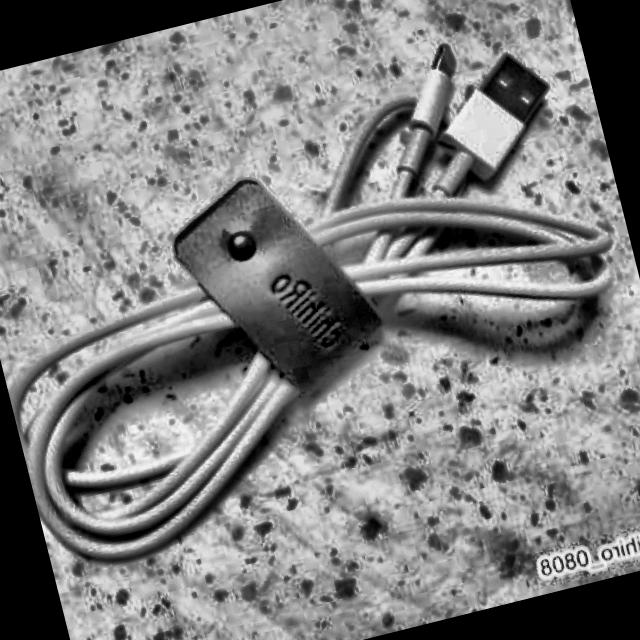Cable: (0, 10, 640, 576)
